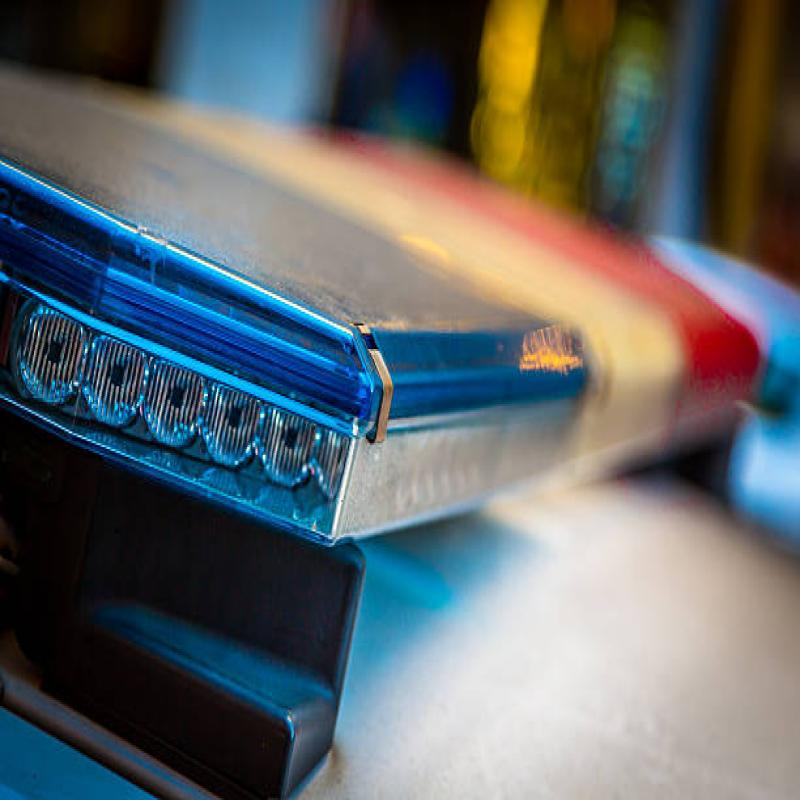AmbulanceSiren: (0, 59, 800, 560)
